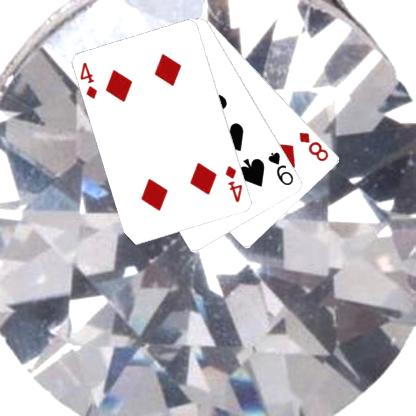4D: (223, 163, 244, 204), (78, 60, 99, 101)
8D: (297, 129, 330, 163)
9S: (266, 149, 295, 187)
